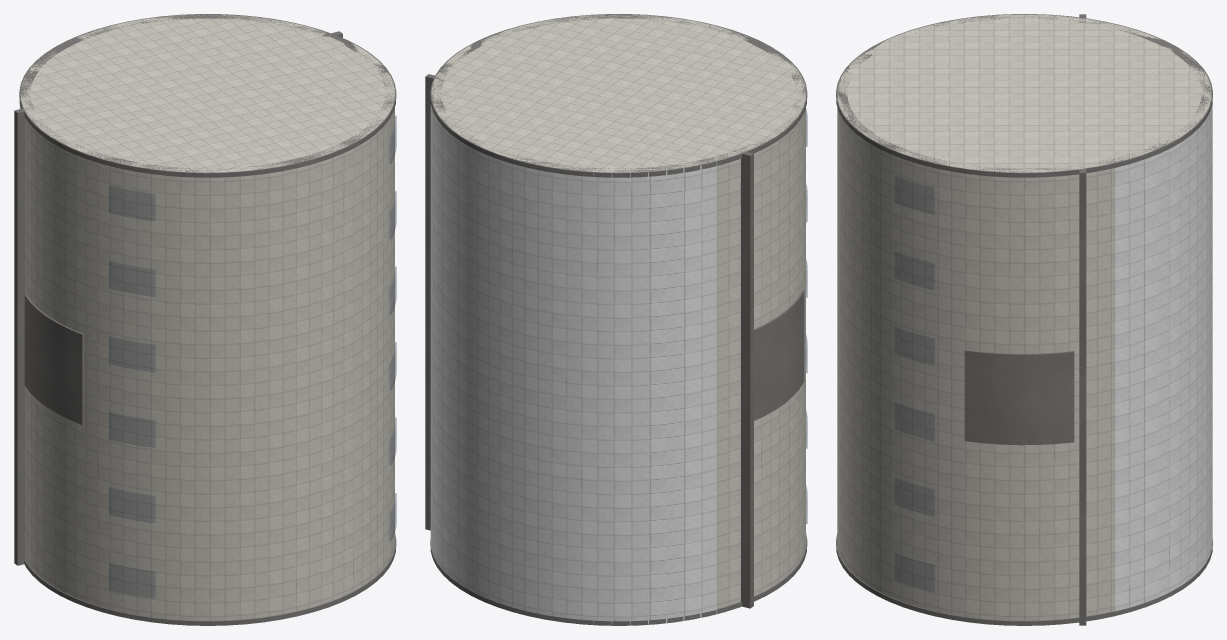
The model's file is aero02_mk3_fuselage_crew_500.glb.
The picture shows the model from 3 angles, left to right: view 1: azimuth 30°, elevation 25°; view 2: azimuth 150°, elevation 25°; view 3: azimuth 270°, elevation 25°; orthographic projection.
Parts seen in each view (by area): view 1: fuselage, windows, end_frames, hatches, chines; view 2: belly_tiles, fuselage, chines, end_frames, hatches; view 3: fuselage, belly_tiles, hatches, end_frames, windows, chines.
Part boxes in pixels (bbox=[...]): fuselage: bbox=[20, 14, 394, 620]; windows: bbox=[109, 116, 396, 598]; end_frames: bbox=[19, 14, 396, 625]; hatches: bbox=[24, 294, 84, 424]; chines: bbox=[14, 31, 342, 565]; belly_tiles: bbox=[430, 104, 717, 625]; fuselage: bbox=[431, 14, 805, 608]; chines: bbox=[425, 74, 753, 608]; end_frames: bbox=[430, 14, 807, 625]; hatches: bbox=[754, 290, 804, 420]; fuselage: bbox=[837, 14, 1211, 620]; belly_tiles: bbox=[1114, 104, 1212, 611]; hatches: bbox=[964, 349, 1074, 445]; end_frames: bbox=[836, 14, 1212, 625]; windows: bbox=[894, 175, 934, 591]; chines: bbox=[1079, 14, 1086, 625].
Size of the model in its own units: 3.79 by 5 by 3.77.
4 materials, 3 textured.
